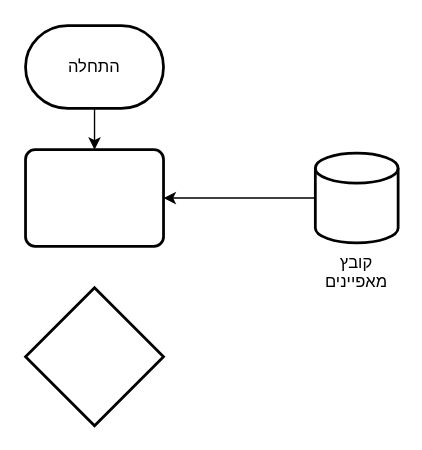
This 422x450 diagram has some shape labels left out. Here are the shapes that lost their labels. From the top down, the centre of each, then its label:
At (x=93, y=197): "שליפת פרטי הזדהות מול ספק".
At (x=93, y=356): "התקבלו".
